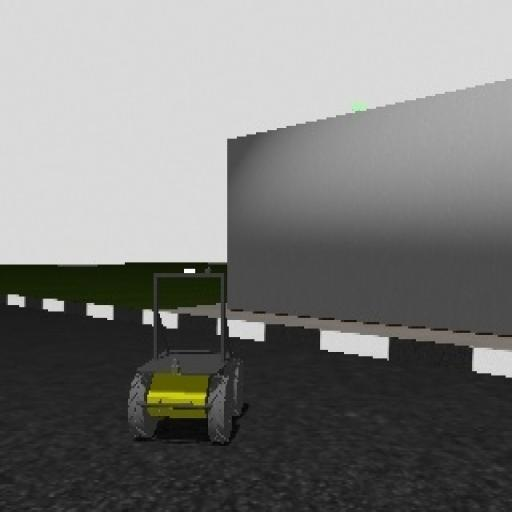huskya200: (117, 265, 256, 448)
